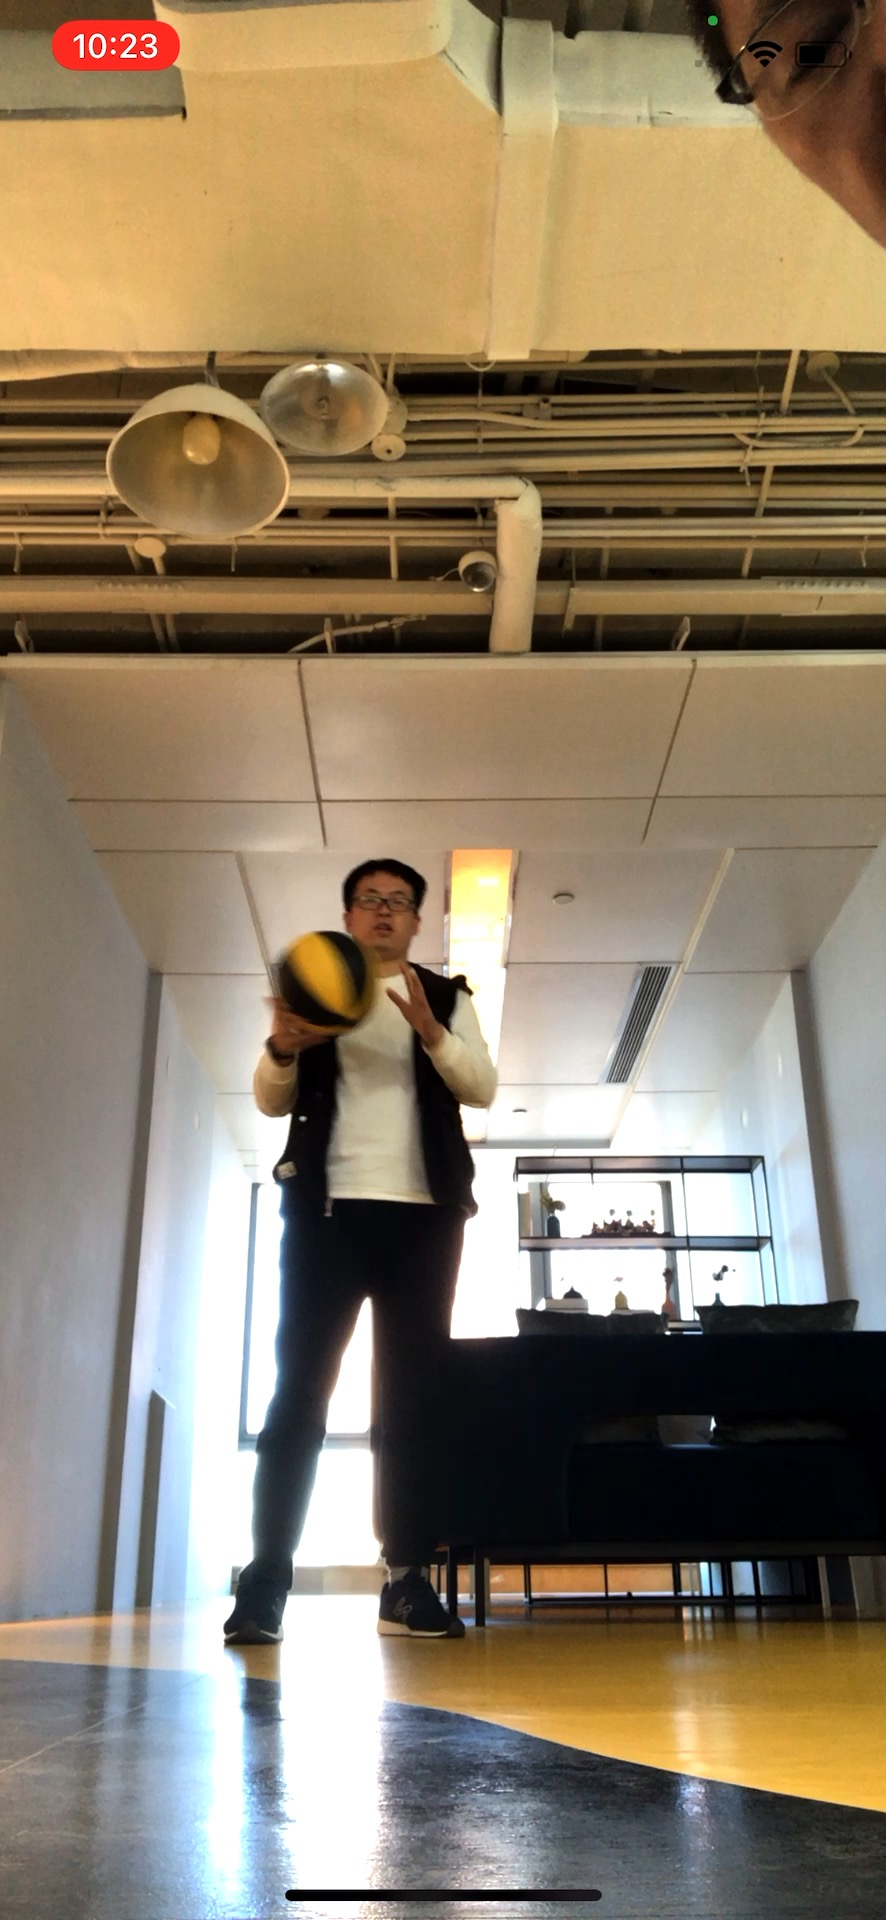ball: (272, 927, 378, 1035)
